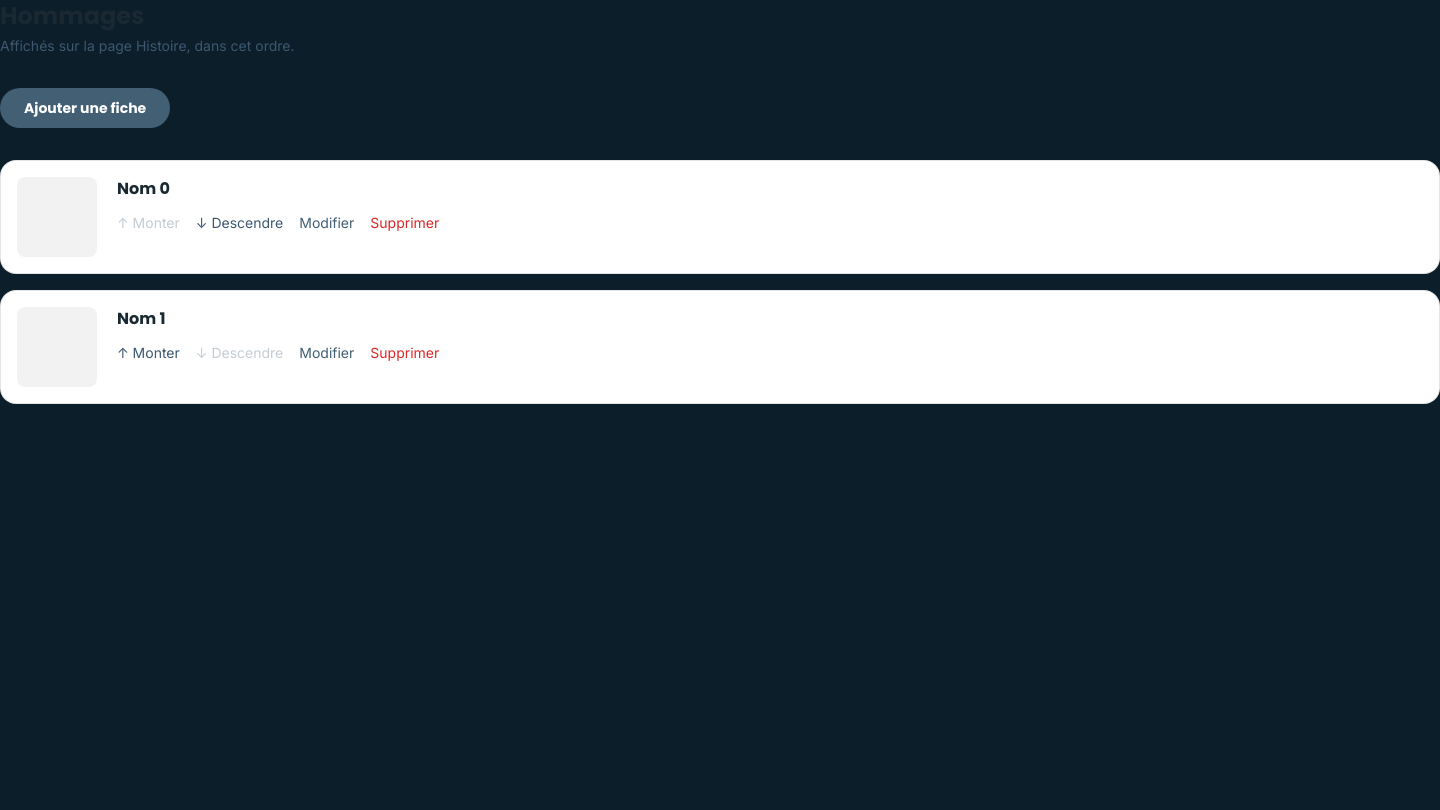
it: désactive les actions de la liste pendant que le formulaire est ouvert
Click the button "Ajouter une fiche". click: (85, 108)
box: [0,88,170,128]
(page scrolled)
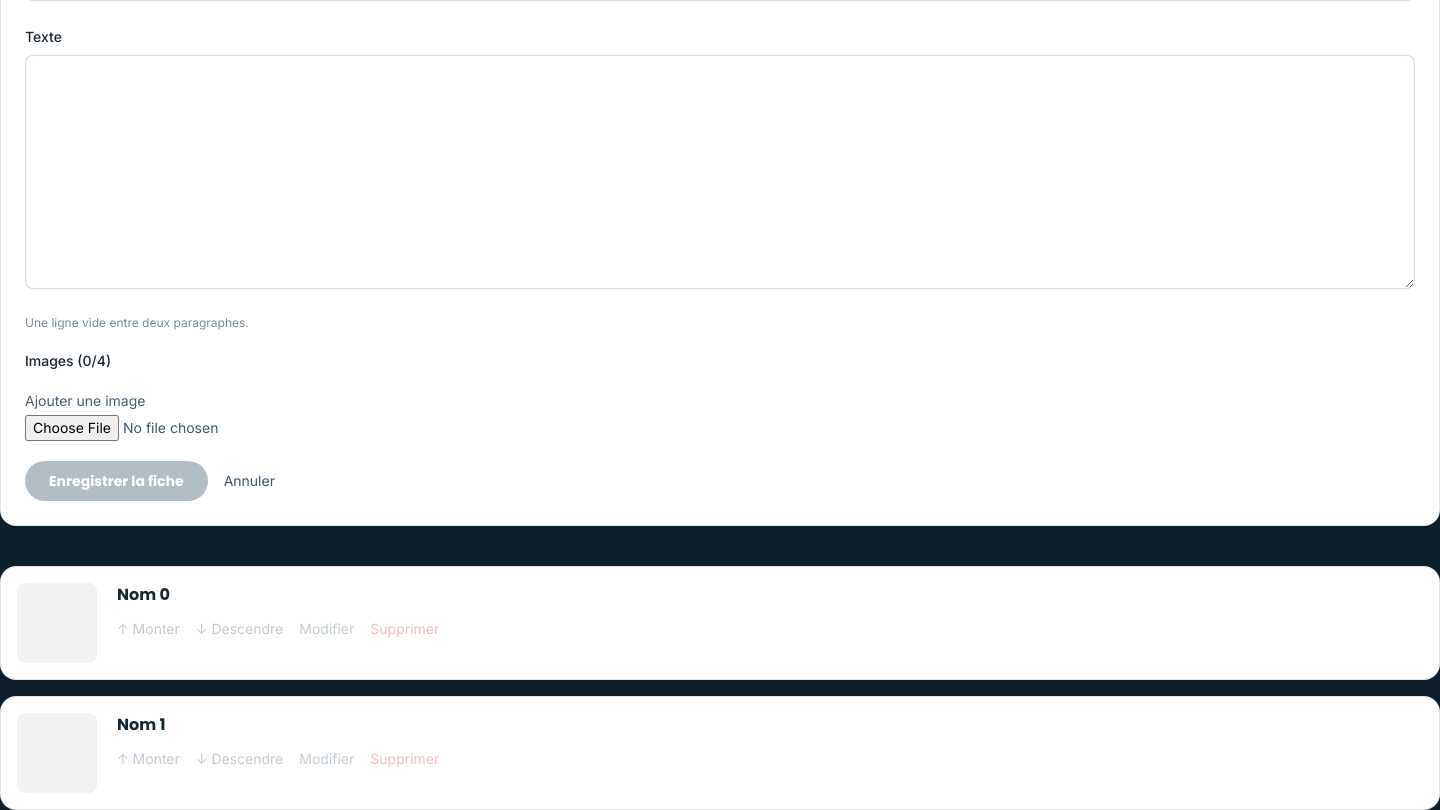
Check: the button "Modifier" below "Nom 0" is disabled, box [299,619,354,639]
Check: the button "Supprimer" below "Nom 0" is disabled, box [370,619,439,639]
Check: the button "↓ Descendre" below "Nom 0" is disabled, box [196,619,283,639]
